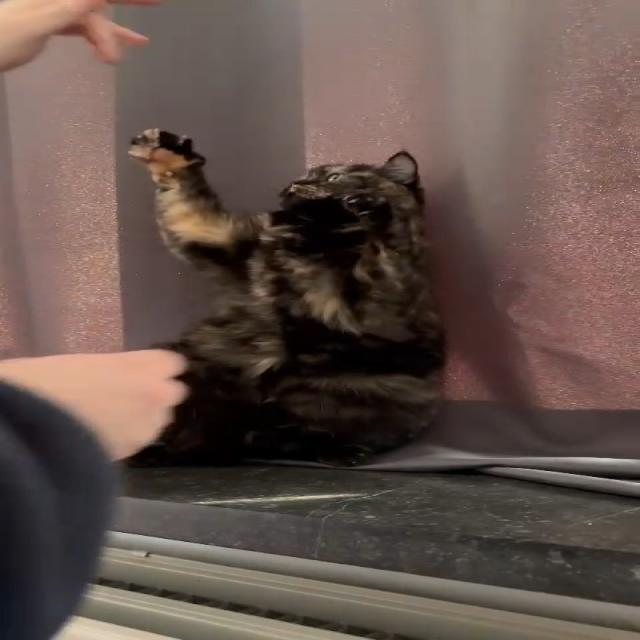authorized: (119, 126, 448, 468)
